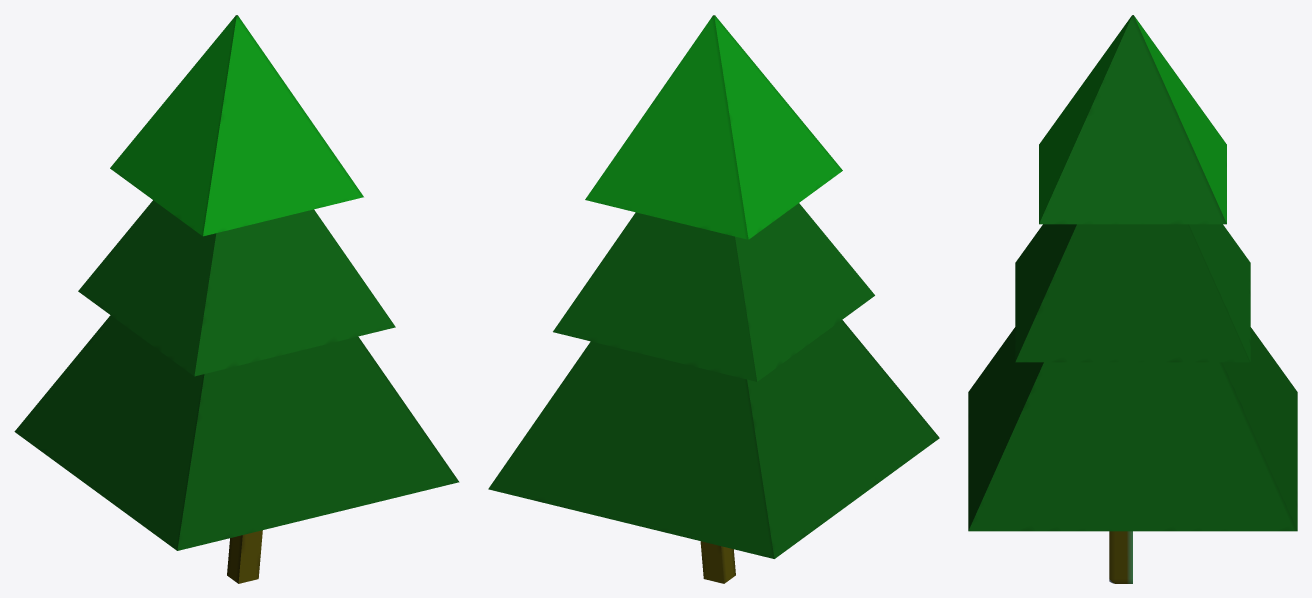
File: Arbre.obj
3 renders of one model, left to right at view 1: azimuth 30°, elevation 25°; view 2: azimuth 150°, elevation 25°; view 3: azimuth 270°, elevation 25°, orthographic.
Visible parts, largest first — view 1: cube; view 2: cube; view 3: cube.
Boxes of the visible parts, bbox=[...] form: cube: bbox=[14, 15, 459, 583]; cube: bbox=[488, 15, 939, 583]; cube: bbox=[968, 15, 1297, 583].
Size of the model in its own units: 1.75 by 3.31 by 1.75.
Materials: 1 (1 with a texture image).
